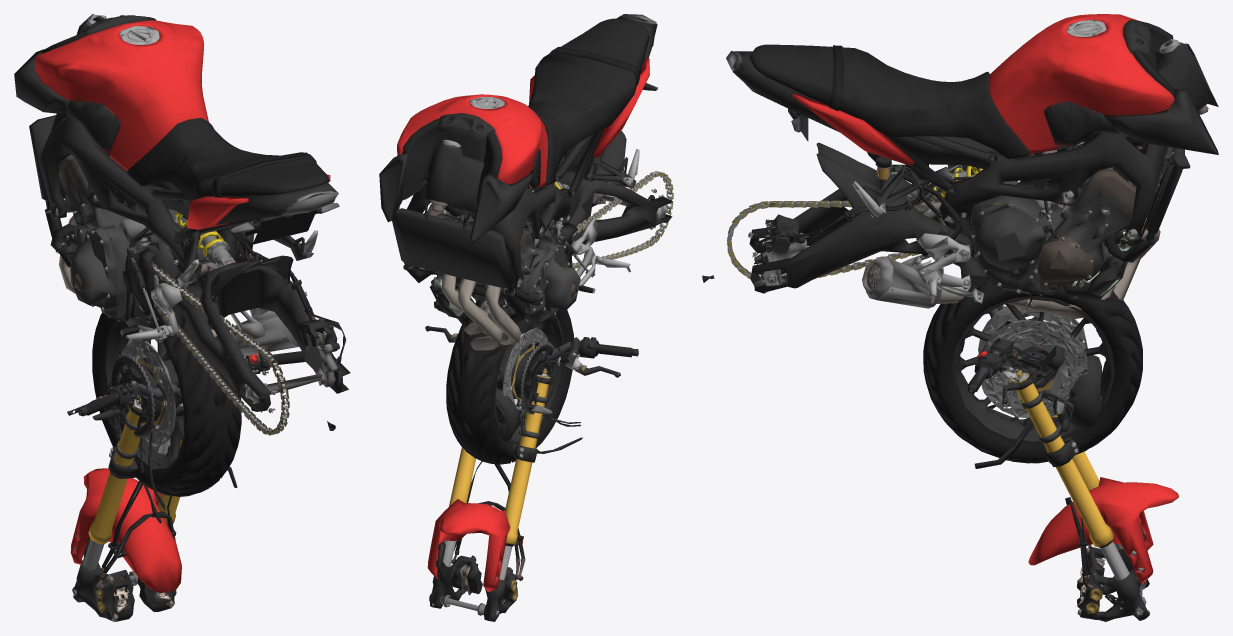
The model's file is StreetThree.fbx.
3 renders of one model, left to right at view 1: azimuth 30°, elevation 25°; view 2: azimuth 150°, elevation 25°; view 3: azimuth 270°, elevation 25°, orthographic. The views are drawn at different scales.
Parts seen in each view (by area): view 1: street_Body, street_GasTank, street_WheelRear, street_Seat, street_FenderFront, street_Fork, street_Steering, street_BrakeFront, street_Muffler, street_DiscFront, street_BrakeRear, street_RearSuspension (+1 smaller); view 2: street_Body, street_Seat, street_WheelRear, street_GasTank, street_Fork, street_FenderFront, street_Steering, street_Muffler, street_BrakeFront, street_DiscFront, street_Headlight, street_FenderRear; view 3: street_Body, street_GasTank, street_WheelRear, street_Seat, street_Fork, street_FenderFront, street_Muffler, street_Steering, street_DiscFront, street_DiscRear, street_Headlight, street_FenderRear (+3 smaller).
Boxes of the visible parts, box(x1,y1,x2,y2) form: street_Body: box(14, 14, 350, 435); street_GasTank: box(34, 15, 208, 170); street_WheelRear: box(92, 312, 241, 496); street_Seat: box(127, 118, 329, 201); street_FenderFront: box(70, 468, 181, 592); street_Fork: box(72, 405, 183, 617); street_Steering: box(67, 351, 305, 573); street_BrakeFront: box(94, 567, 176, 621); street_Muffler: box(59, 216, 298, 355); street_DiscFront: box(119, 339, 176, 446); street_BrakeRear: box(298, 319, 340, 387); street_RearSuspension: box(116, 194, 235, 273); street_Body: box(379, 14, 673, 334); street_Seat: box(528, 18, 649, 185); street_WheelRear: box(446, 280, 573, 464); street_GasTank: box(397, 94, 548, 202); street_Fork: box(429, 375, 551, 621); street_FenderFront: box(427, 499, 522, 591); street_Steering: box(425, 301, 638, 558); street_Muffler: box(441, 273, 521, 350); street_BrakeFront: box(451, 551, 525, 606); street_DiscFront: box(502, 328, 548, 415); street_Headlight: box(495, 388, 533, 441); street_FenderRear: box(568, 130, 626, 185); street_Body: box(702, 20, 1218, 306); street_GasTank: box(989, 14, 1174, 154); street_WheelRear: box(923, 256, 1142, 463); street_Seat: box(749, 44, 1030, 159); street_Fork: box(1010, 366, 1150, 621); street_FenderFront: box(1028, 477, 1178, 583); street_Muffler: box(862, 218, 1160, 319); street_Steering: box(967, 305, 1117, 603); street_DiscFront: box(978, 305, 1088, 418); street_DiscRear: box(990, 329, 1078, 409); street_Headlight: box(1042, 355, 1102, 432); street_FenderRear: box(816, 142, 882, 216).
Size of the model in its own units: 6.79 by 15.92 by 12.85.
